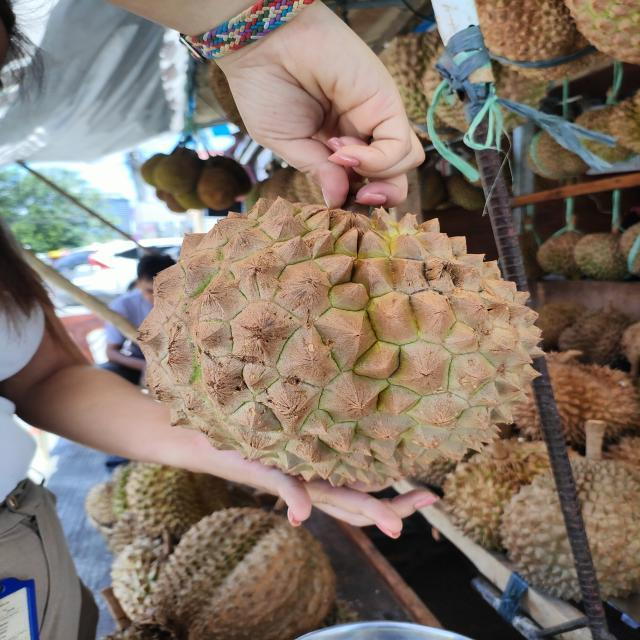mature: (133, 213, 548, 494)
